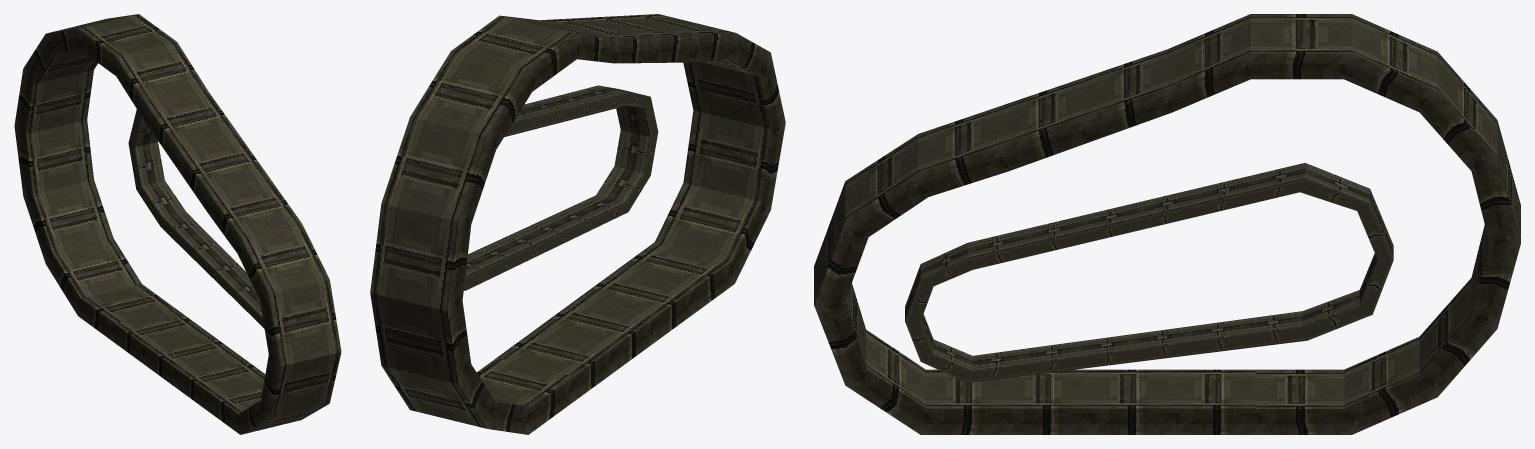
Rendered from VTRECOH_TRAC_L.obj.
3 views of the same model, side by side, from view 1: azimuth 30°, elevation 25°; view 2: azimuth 150°, elevation 25°; view 3: azimuth 270°, elevation 25° (orthographic). The views are drawn at different scales.
Parts seen in each view (by area): view 1: Node 0; view 2: Node 0; view 3: Node 0.
Boxes of the visible parts, box(x1,y1,x2,y2) form: Node 0: box(14, 14, 341, 434); Node 0: box(370, 14, 785, 434); Node 0: box(814, 14, 1520, 434).
Size of the model in its own units: 0.53 by 1.62 by 2.72.
Materials: 1 (1 with a texture image).
